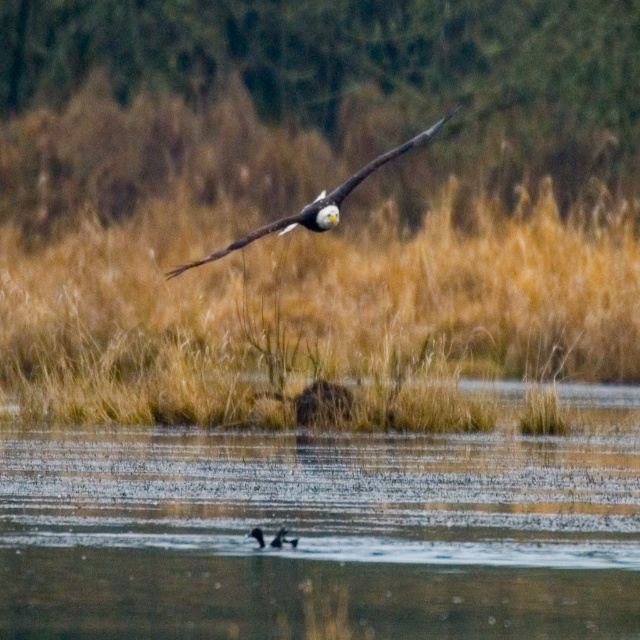Eagle: (164, 110, 462, 286)
